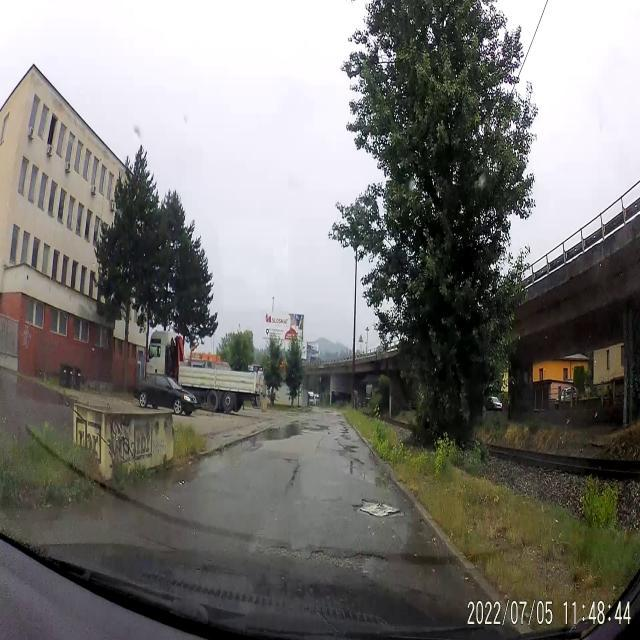Pothole: (307, 537, 387, 572), (358, 492, 400, 524), (257, 542, 303, 564)
